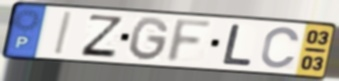C: (258, 25, 302, 70)
F: (163, 18, 217, 65)
G: (128, 15, 171, 63)
I: (52, 11, 75, 57)
L: (220, 23, 254, 68)
Z: (78, 13, 126, 59)
